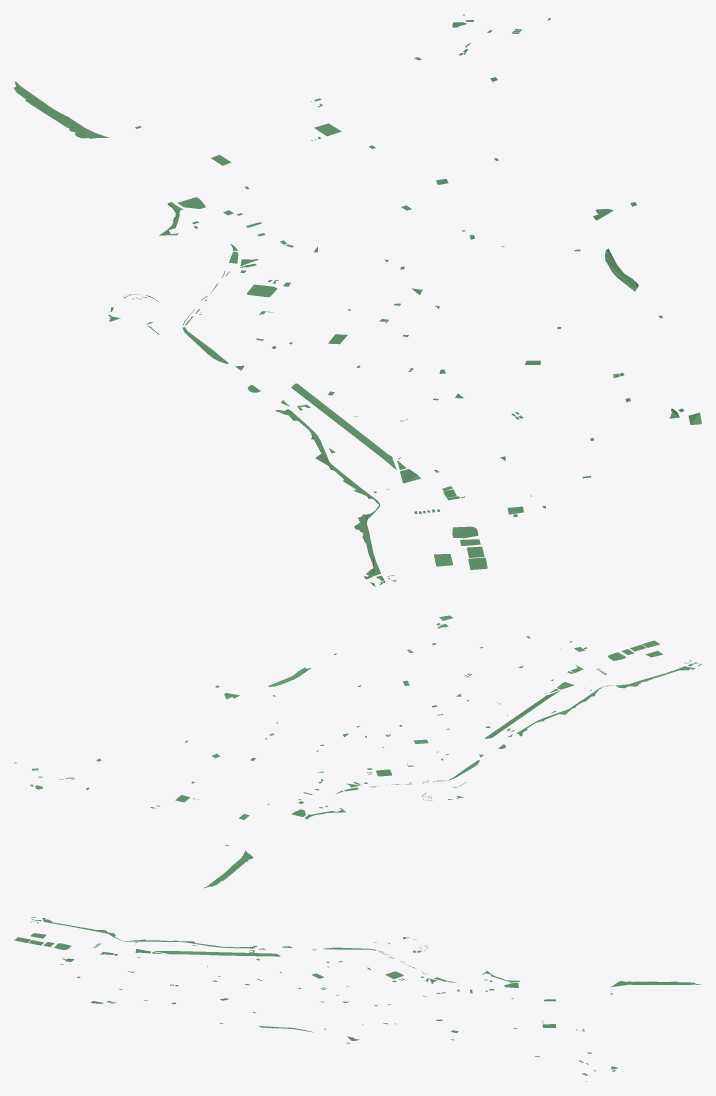
File: green.glb
The picture shows the model from 3 angles, top to bottom: view 1: azimuth 30°, elevation 25°; view 2: azimuth 150°, elevation 25°; view 3: azimuth 270°, elevation 25°; orthographic projection. The views are drawn at different scales.
Visible parts, largest first — view 1: green; view 2: green; view 3: green.
Boxes of the visible parts, x1,y1,x2,y2 form: green: (14, 14, 701, 586); green: (14, 615, 701, 888); green: (14, 917, 701, 1081).
Size of the model in its own units: 3201 by 180 by 5085.
